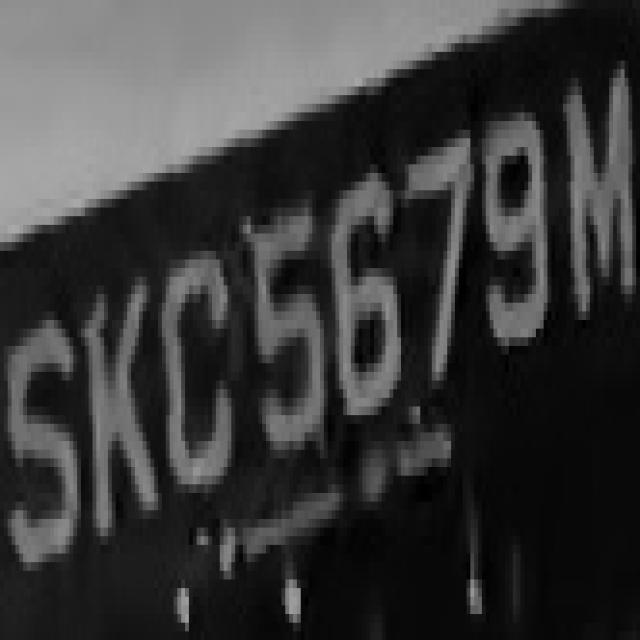5: (250, 199, 328, 484)
6: (320, 147, 405, 450)
7: (390, 95, 470, 415)
9: (471, 104, 552, 372)
C: (158, 216, 231, 510)
K: (77, 233, 158, 571)
M: (551, 52, 640, 329)
S: (8, 276, 85, 622)
